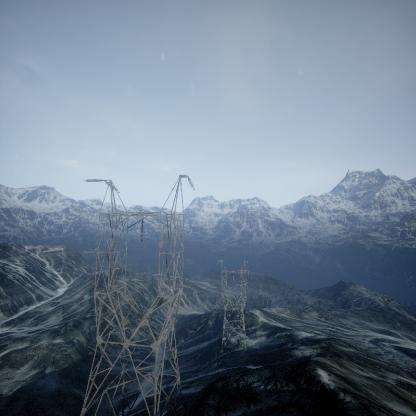tower: (80, 174, 196, 414), (219, 262, 251, 349)
